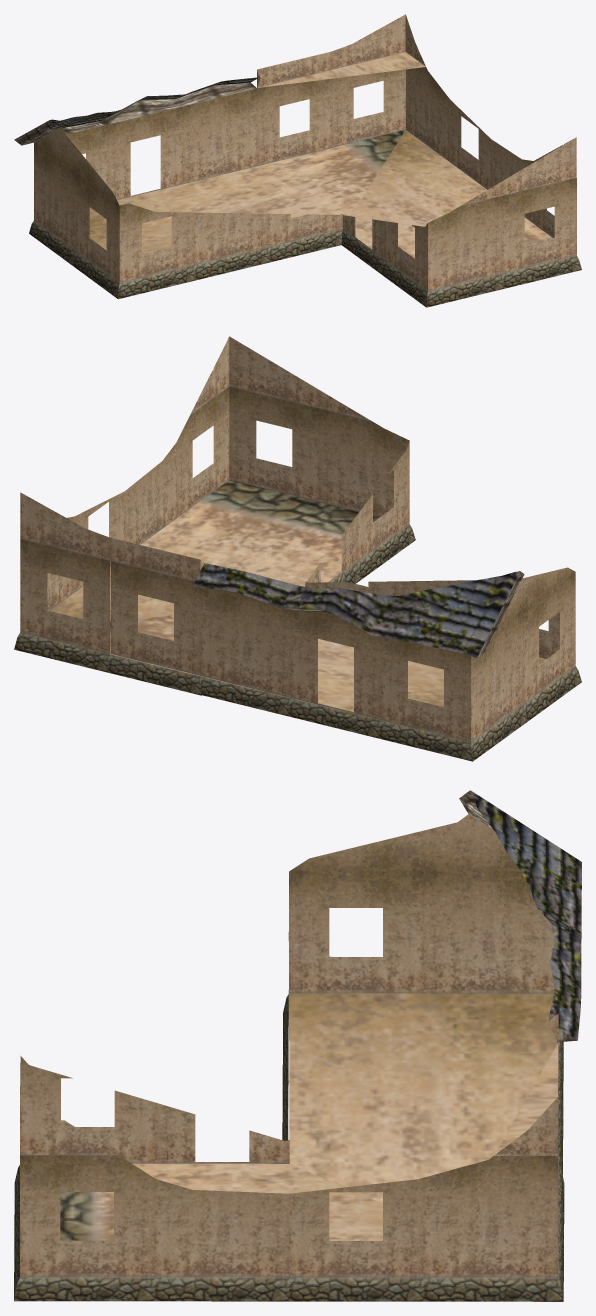
The model's file is s44_b_house_2_5_destroyed_1.dae.
3 views of the same model, one above another, from view 1: azimuth 30°, elevation 25°; view 2: azimuth 150°, elevation 25°; view 3: azimuth 270°, elevation 25° (orthographic). The views are drawn at different scales.
Parts seen in each view (by area): view 1: Untitled; view 2: Untitled; view 3: Untitled.
Part boxes in pixels (x1,y1,x2,y2): Untitled: (14,14,581,307); Untitled: (14,336,581,761); Untitled: (14,790,581,1301).
Bounding box in the file's own units: 125 × 101 × 42.44.
1 material, 1 textured.
